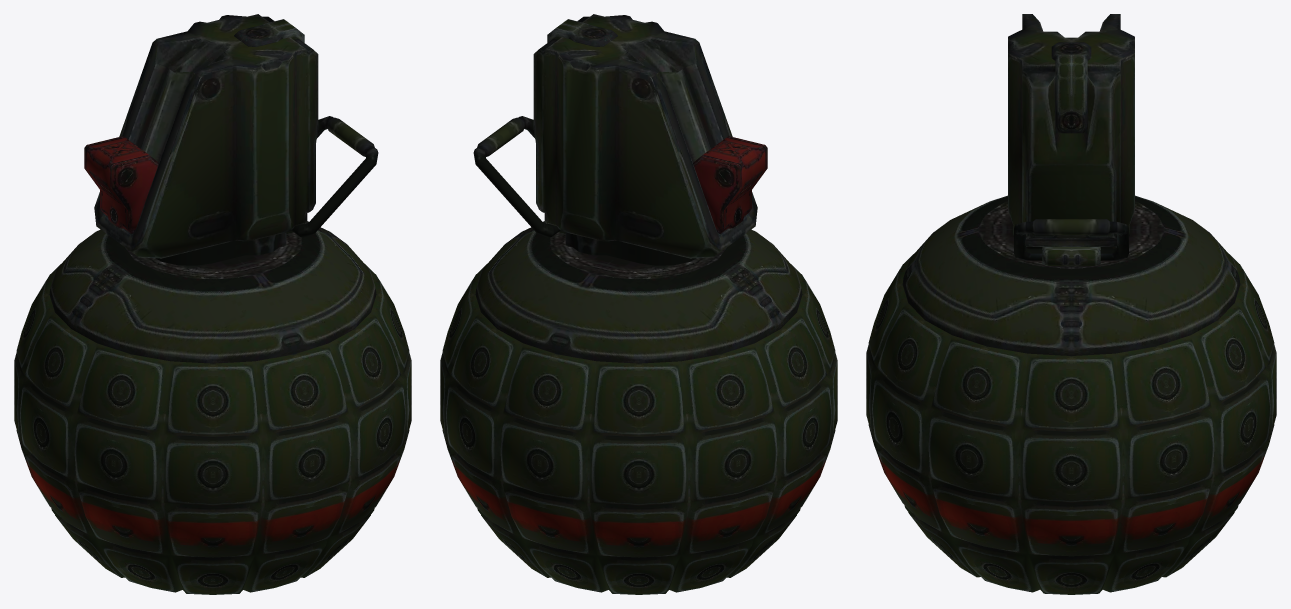
File: Frag.glb
3 renders of one model, left to right at view 1: azimuth 30°, elevation 25°; view 2: azimuth 150°, elevation 25°; view 3: azimuth 270°, elevation 25°, orthographic. The views are drawn at different scales.
Parts seen in each view (by area): view 1: Frag_base; view 2: Frag_base; view 3: Frag_base.
Part boxes in pixels (bbox=[...]): Frag_base: bbox=[14, 14, 411, 594]; Frag_base: bbox=[440, 14, 837, 594]; Frag_base: bbox=[866, 14, 1276, 594].
Size of the model in its own units: 0.1874 by 0.2602 by 0.1874.
Materials: 1 (1 with a texture image).
